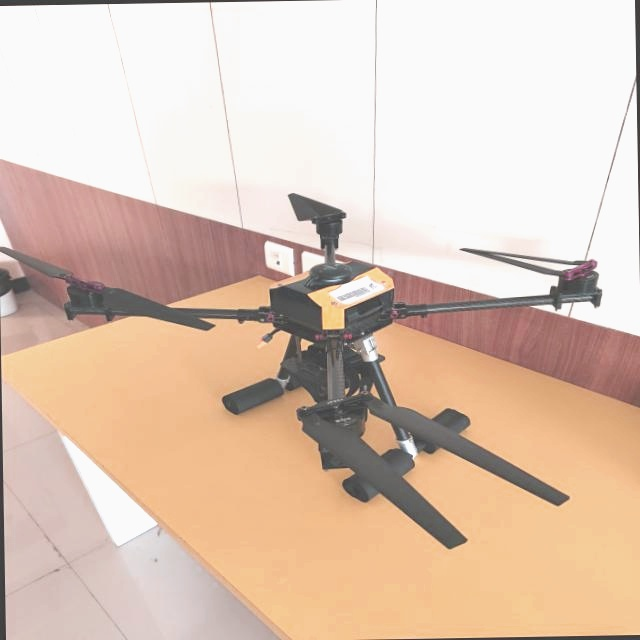quadcopter: (0, 179, 615, 559)
